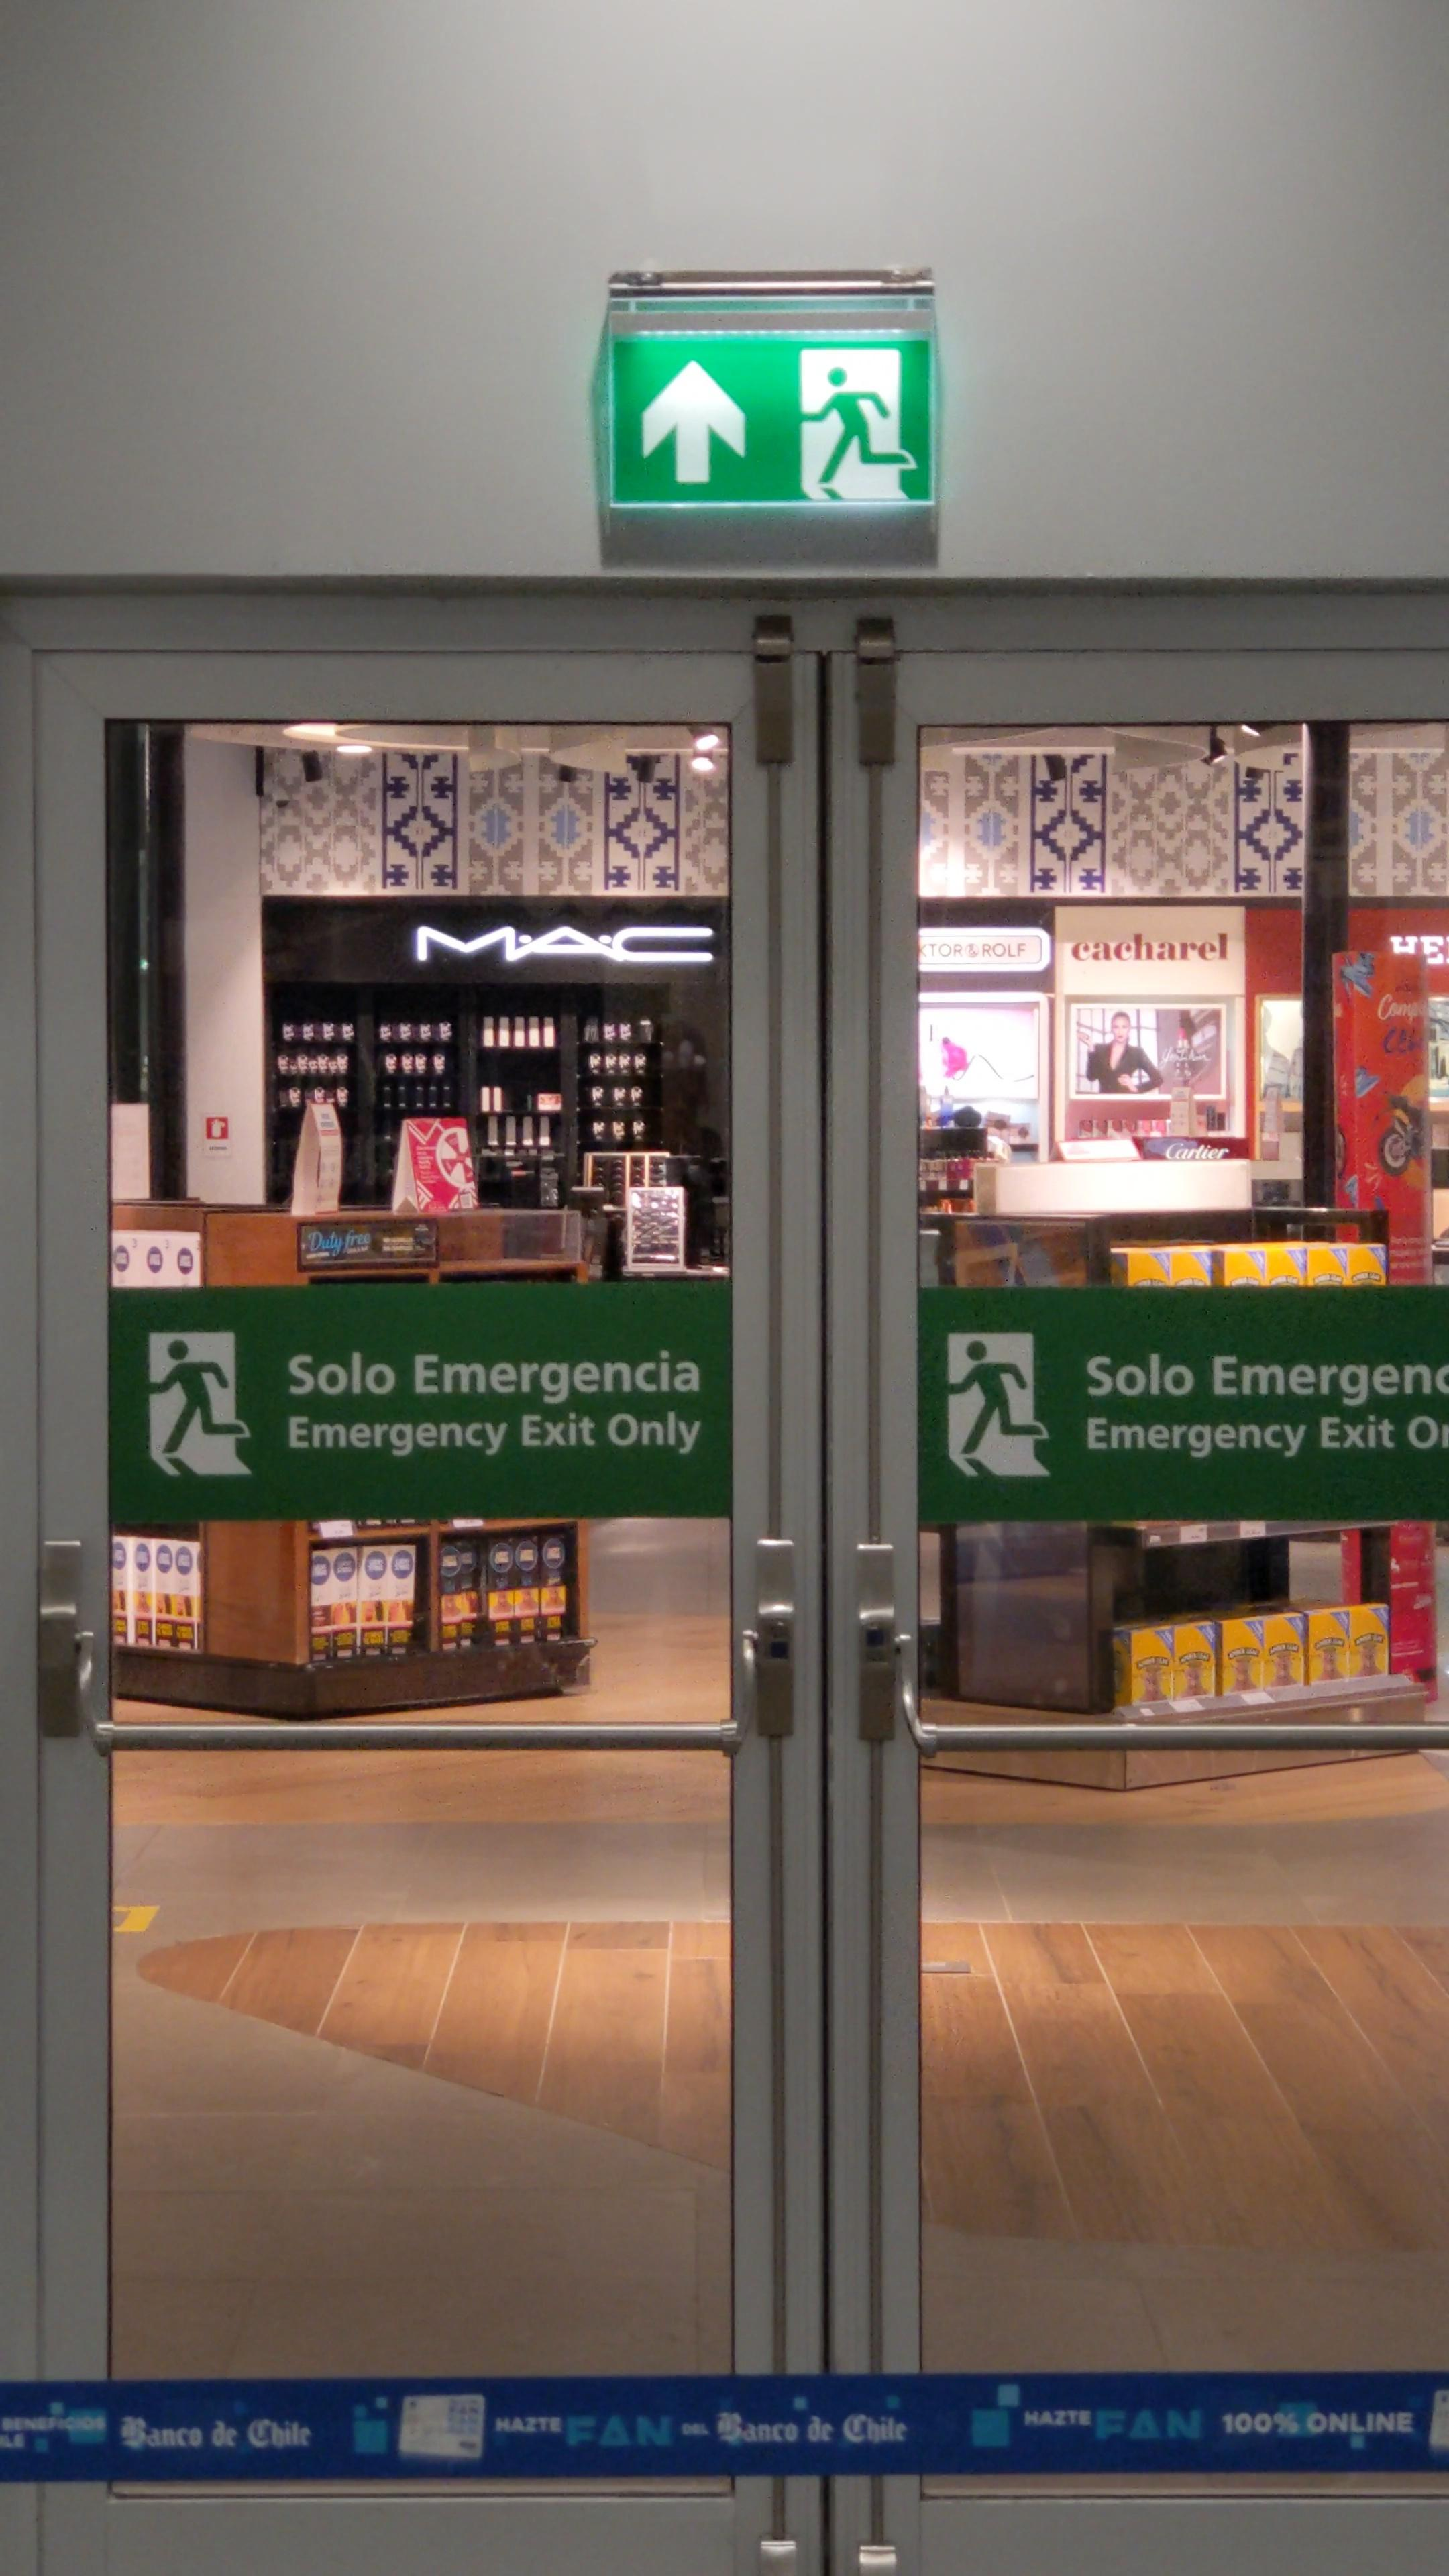emergency exit: (796, 345, 918, 508), (938, 1325, 1054, 1490), (140, 1323, 255, 1490)
emergency up arrow: (637, 356, 750, 488)
